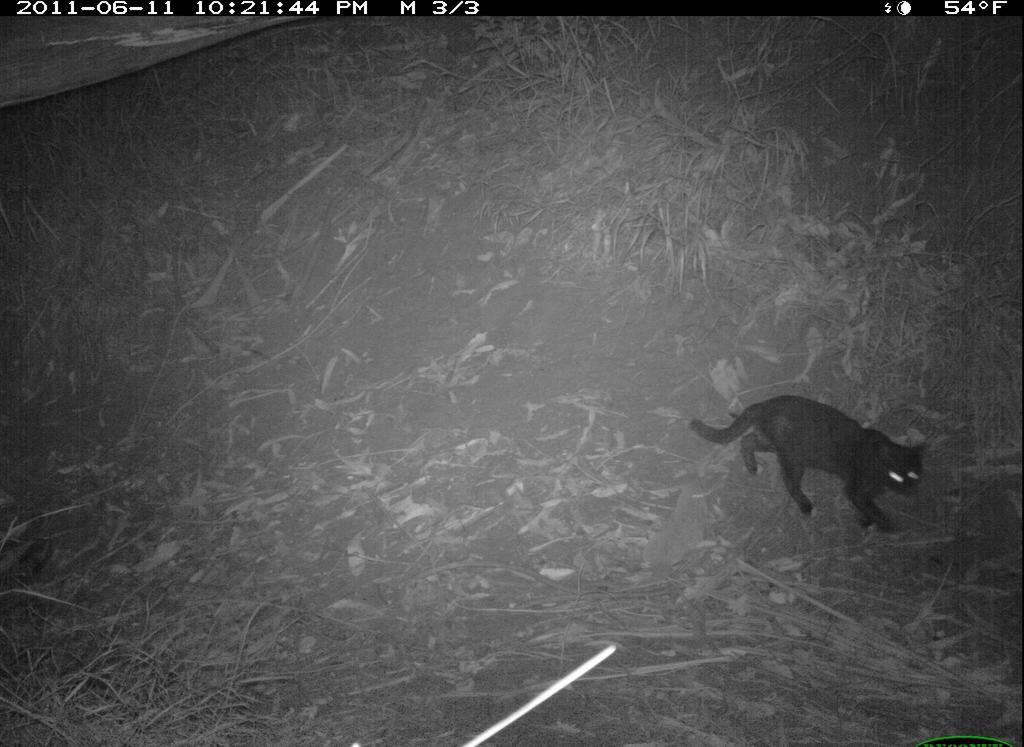cat: (686, 392, 929, 536)
